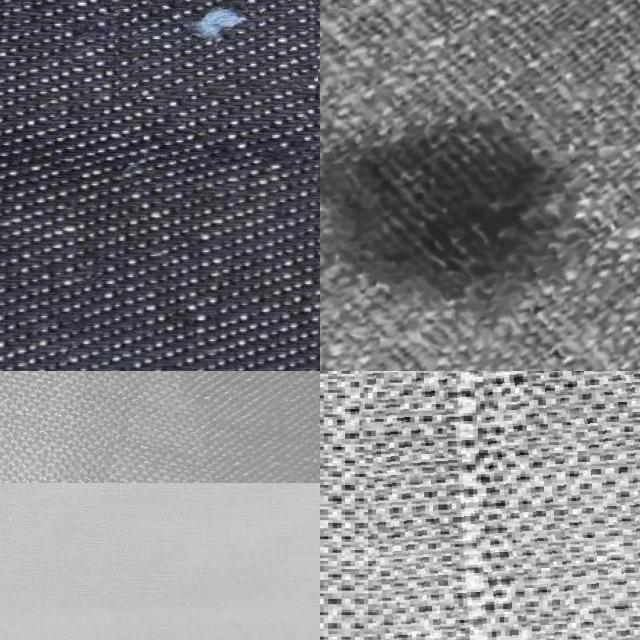other: (320, 0, 640, 371)
stains: (349, 371, 640, 640), (108, 0, 314, 95)
